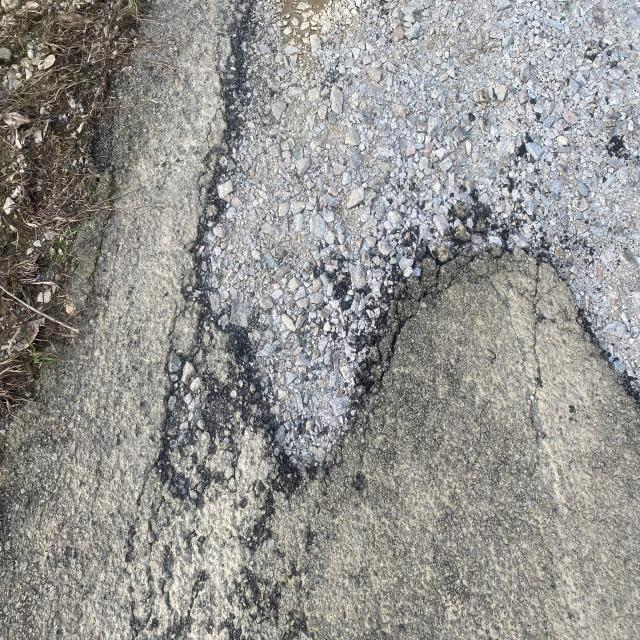pothole: (138, 187, 640, 596)
